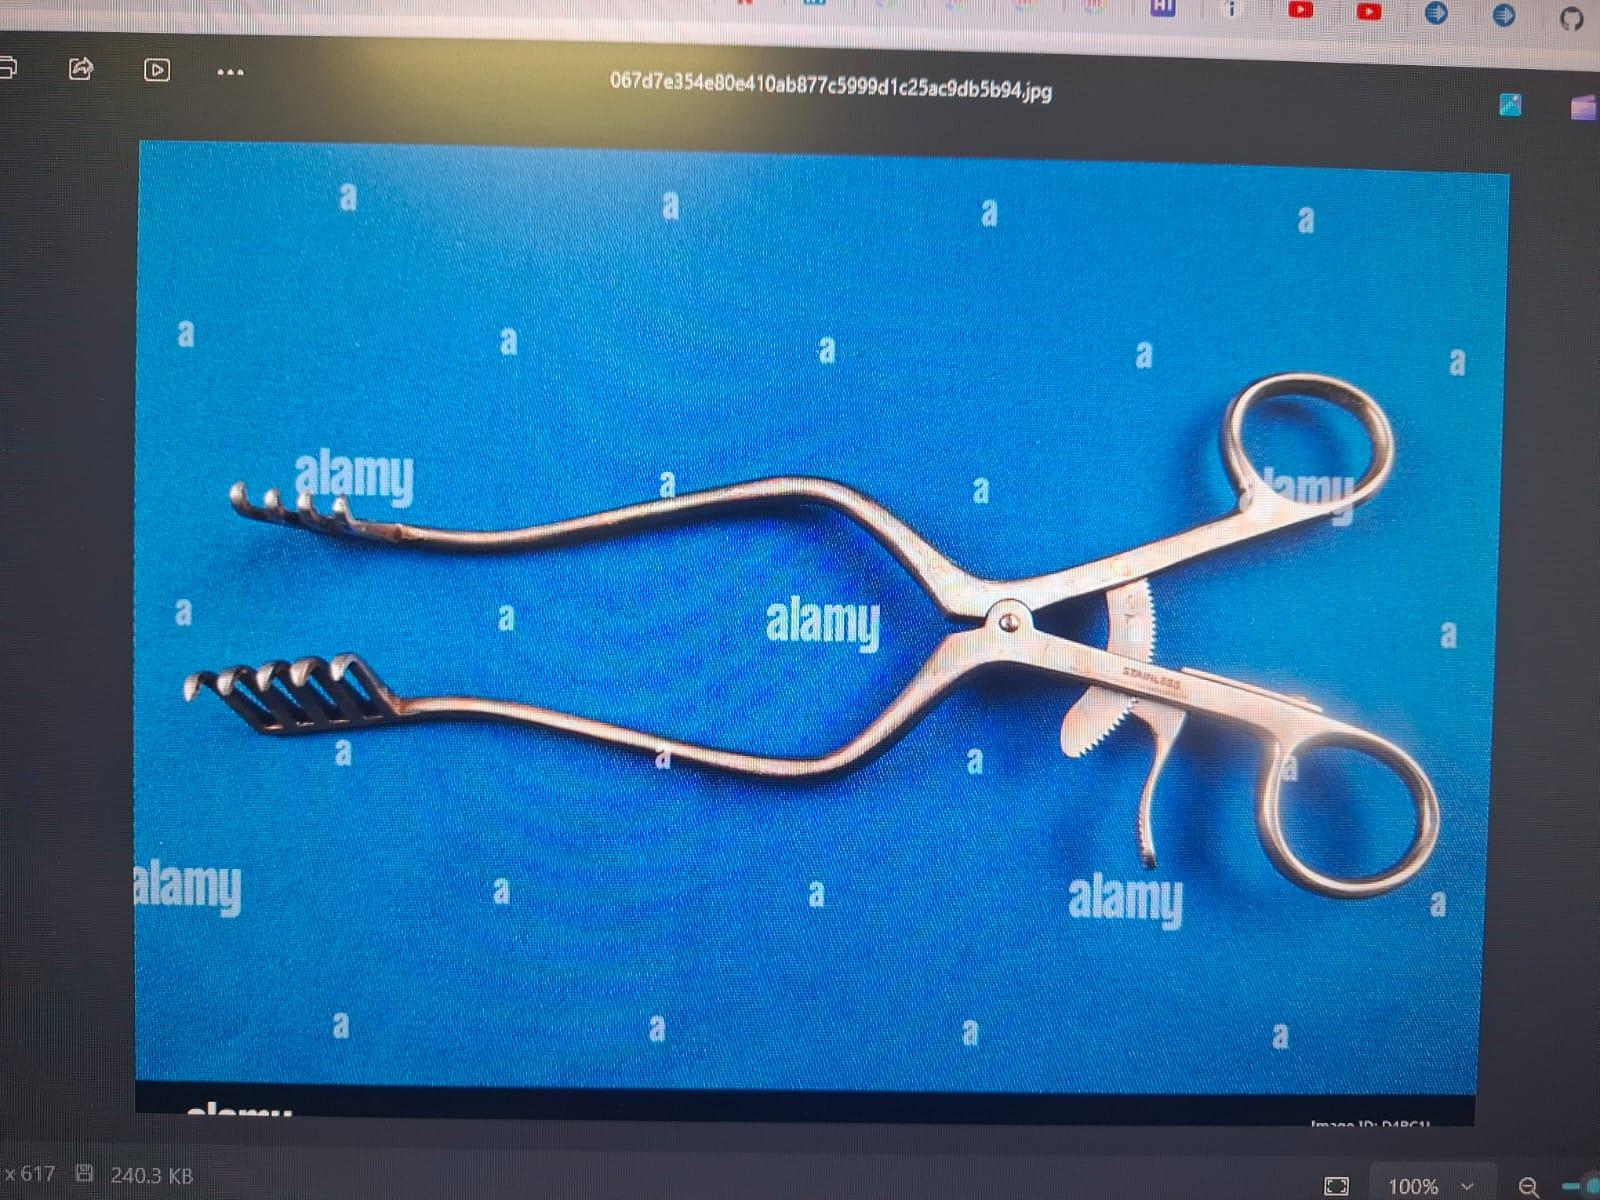Self Retractor: (160, 371, 1453, 903)
